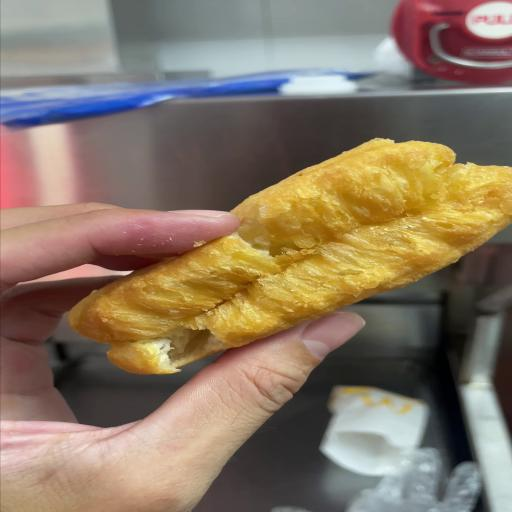brand_golden_defect: (68, 139, 512, 374)
